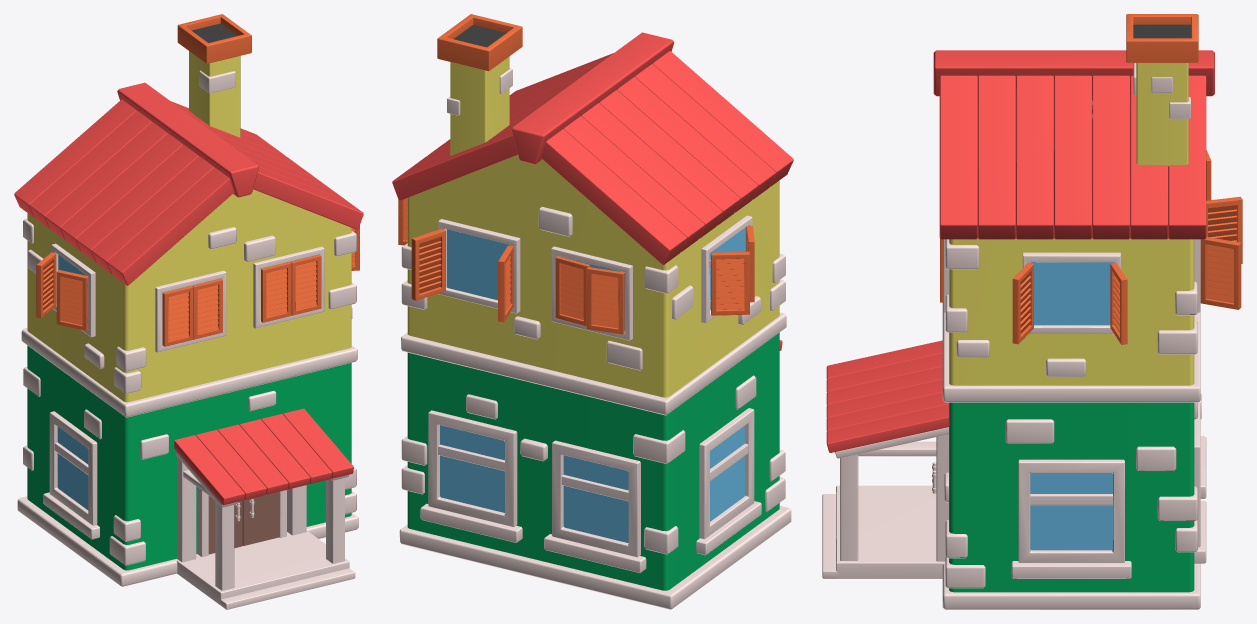
The model's file is City_17_House_1.glb.
3 views of the same model, side by side, from view 1: azimuth 30°, elevation 25°; view 2: azimuth 150°, elevation 25°; view 3: azimuth 270°, elevation 25° (orthographic). The views are drawn at different scales.
Parts seen in each view (by area): view 1: City_17_House_1; view 2: City_17_House_1; view 3: City_17_House_1.
Boxes of the visible parts, left/top/right/bottom form: City_17_House_1: left=14, top=14, right=363, bottom=609; City_17_House_1: left=392, top=14, right=793, bottom=609; City_17_House_1: left=822, top=14, right=1242, bottom=609.
Size of the model in its own units: 7.16 by 10.45 by 7.23.
1 material, 1 textured.
